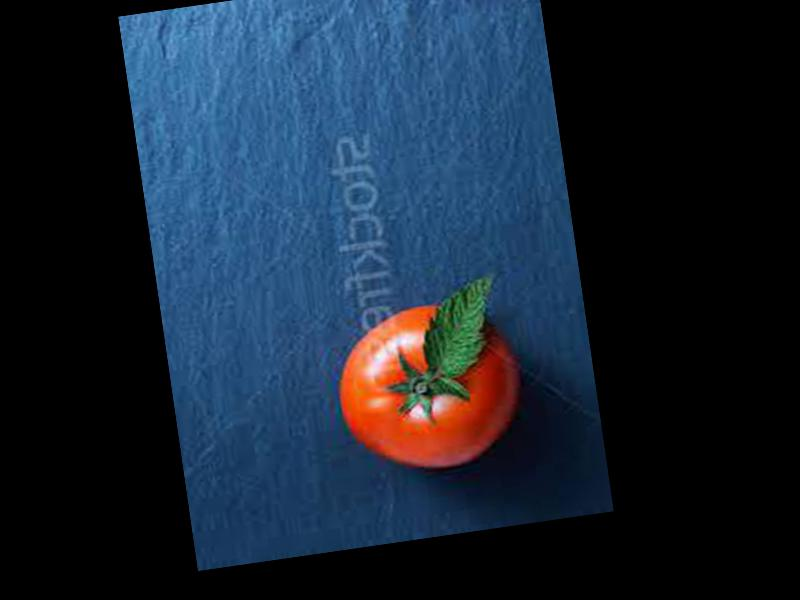Tomato: (328, 292, 527, 479)
